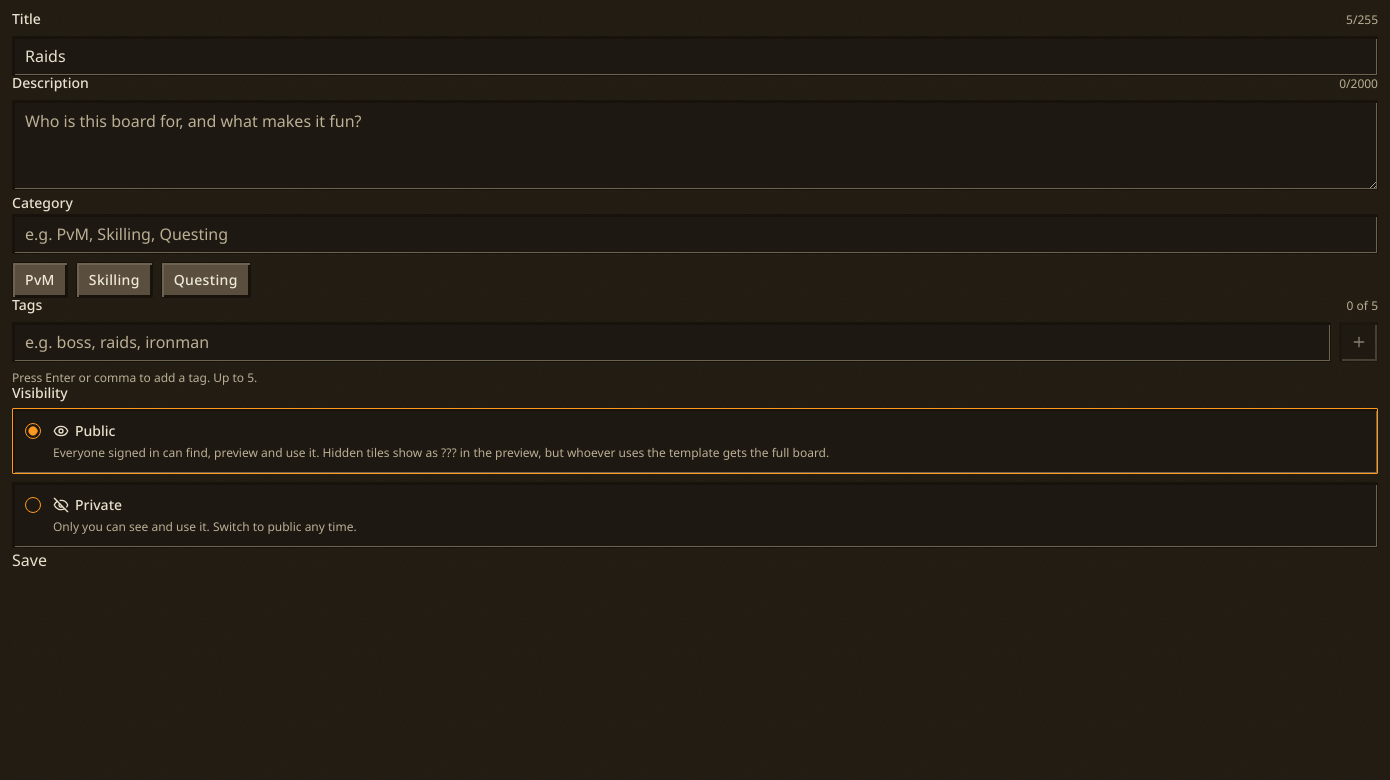
TemplateDetailsFields › adds a tag chip on Enter without submitting the form
Type "boss" into the field labelled "Tags" at (672, 342), box [12,322,1331,362]
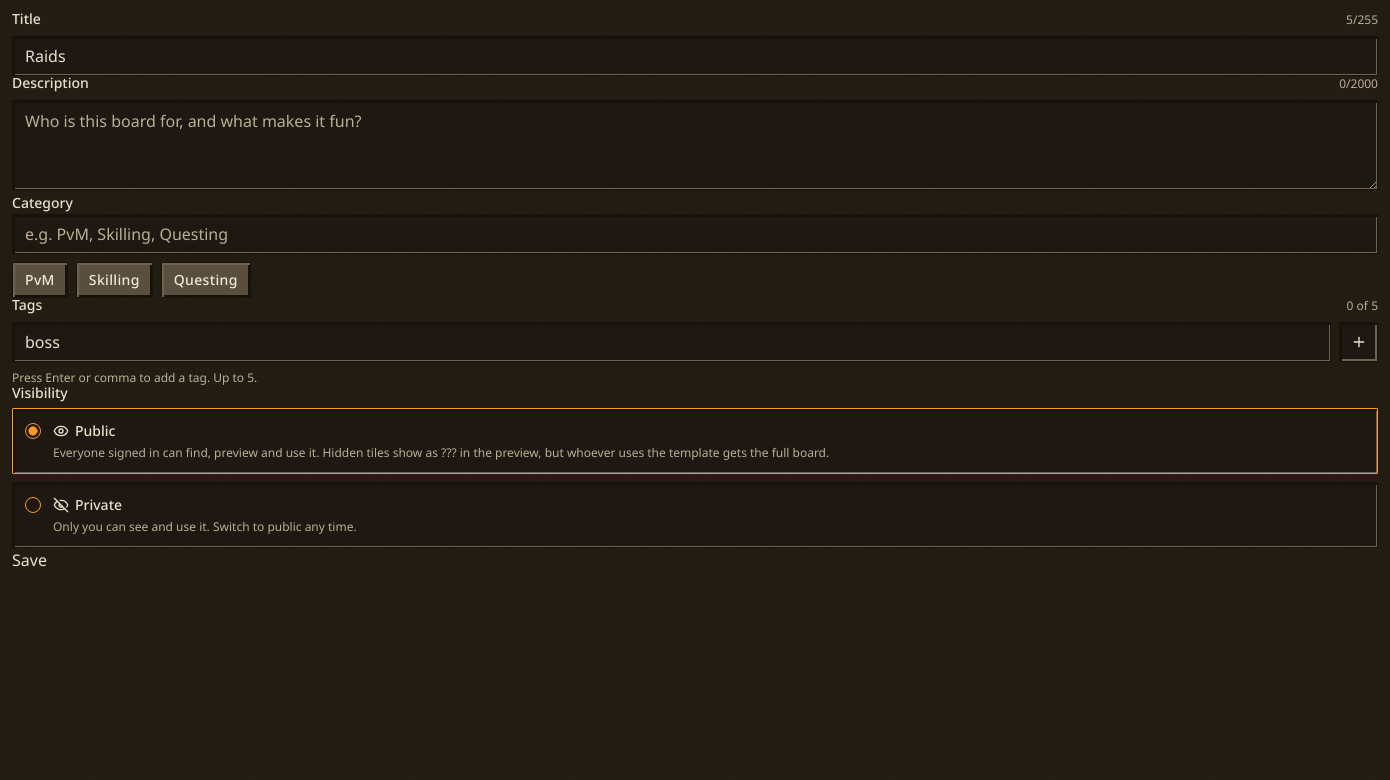
Press Enter in the field labelled "Tags", box [12,322,1331,362]
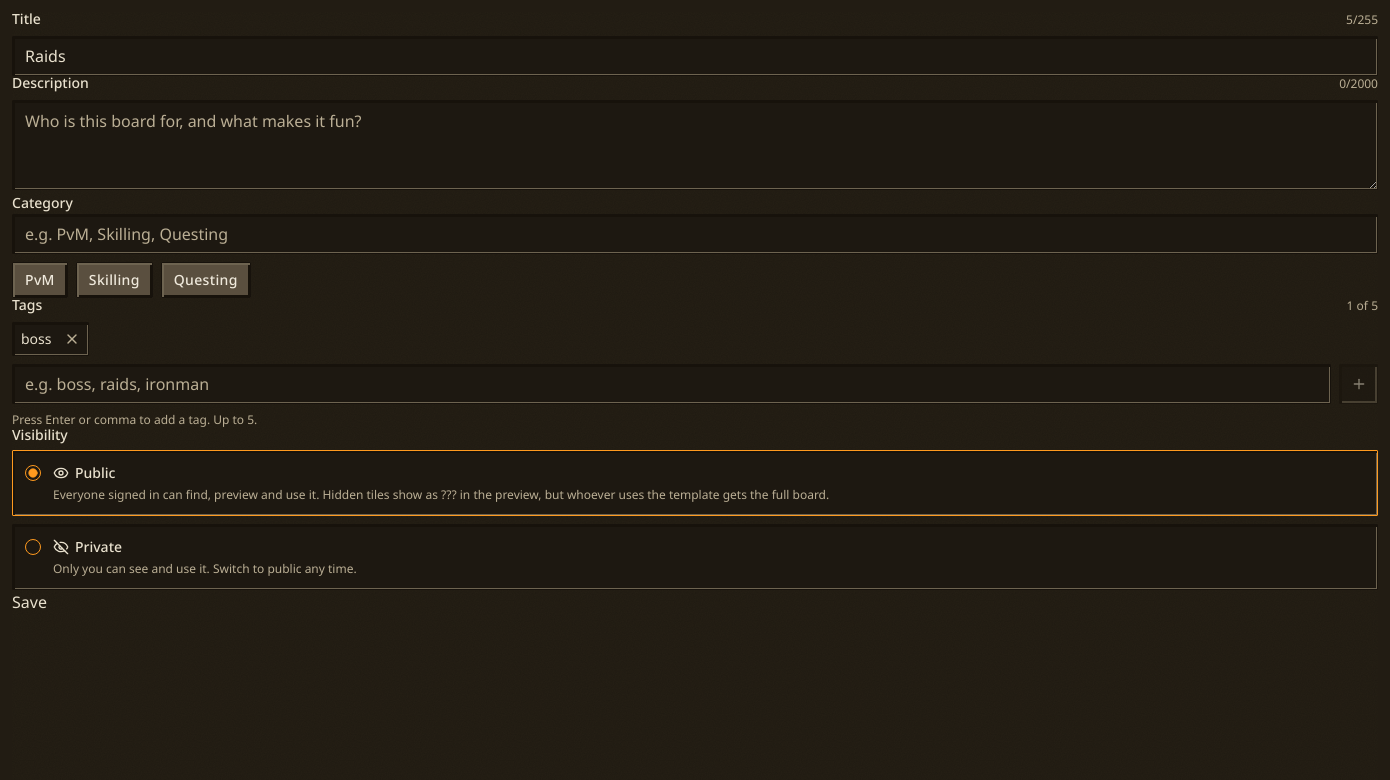
Now the button named "Remove tag boss" is shown, box [56,323,88,355]
Now the text "1 of 5" is shown, box [1347,298,1378,314]
